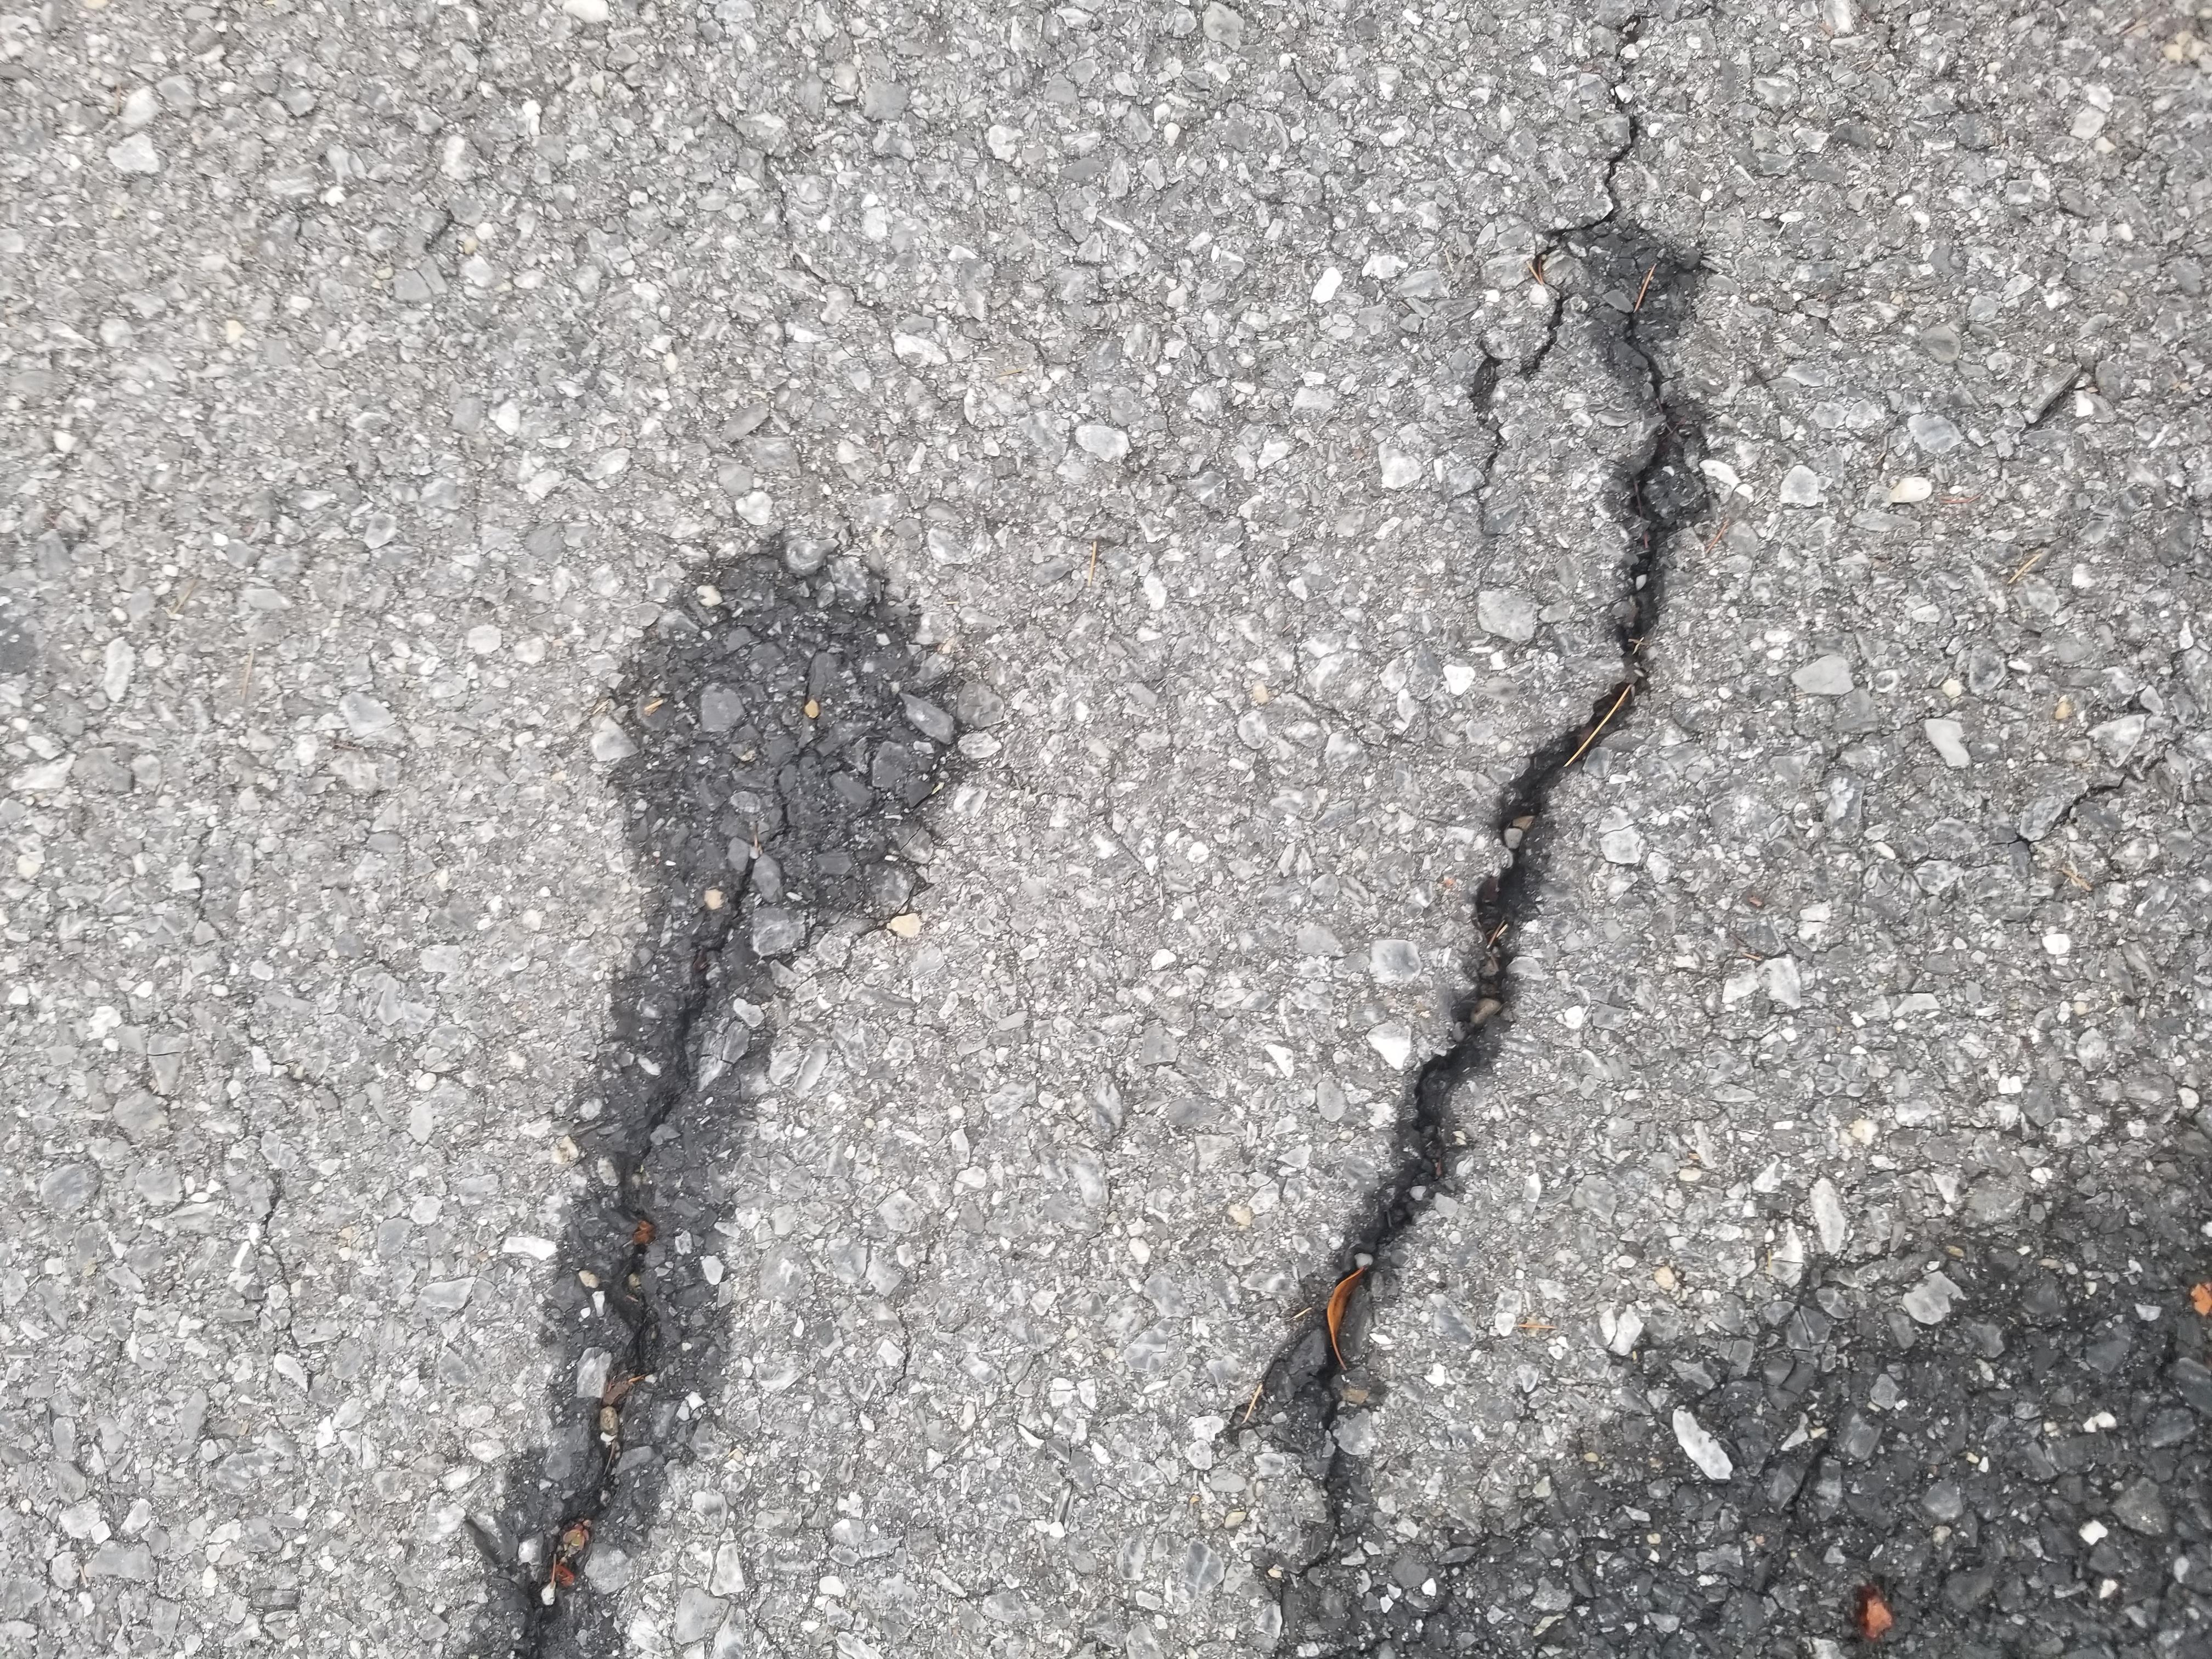crack: (66, 911, 1911, 1310), (0, 336, 1047, 596)
